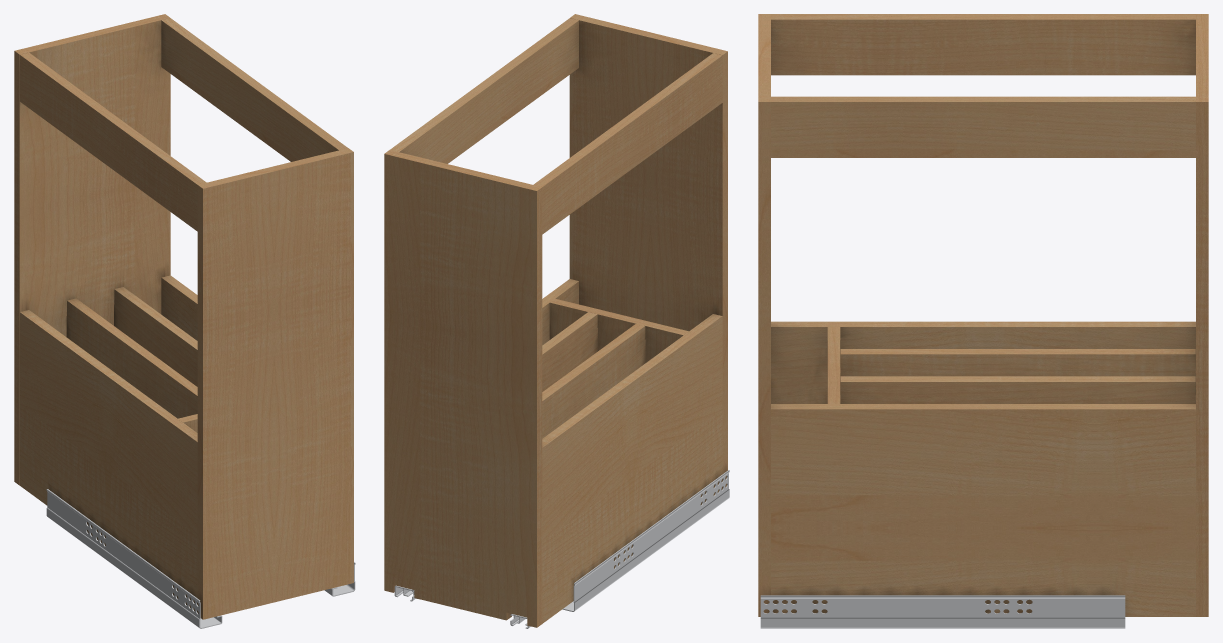
The model's file is inserts-tray-foil-front-pocket-organizer.glb.
3 renders of one model, left to right at view 1: azimuth 30°, elevation 25°; view 2: azimuth 150°, elevation 25°; view 3: azimuth 270°, elevation 25°, orthographic. The views are drawn at different scales.
Parts seen in each view (by area): view 1: insert; view 2: insert; view 3: insert.
Boxes of the visible parts, x1,y1,x2,y2 form: insert: (14,14,355,628); insert: (384,14,729,628); insert: (758,14,1208,628).
Size of the model in its own units: 0.2662 by 0.7172 by 0.556.
5 materials, 1 textured.
